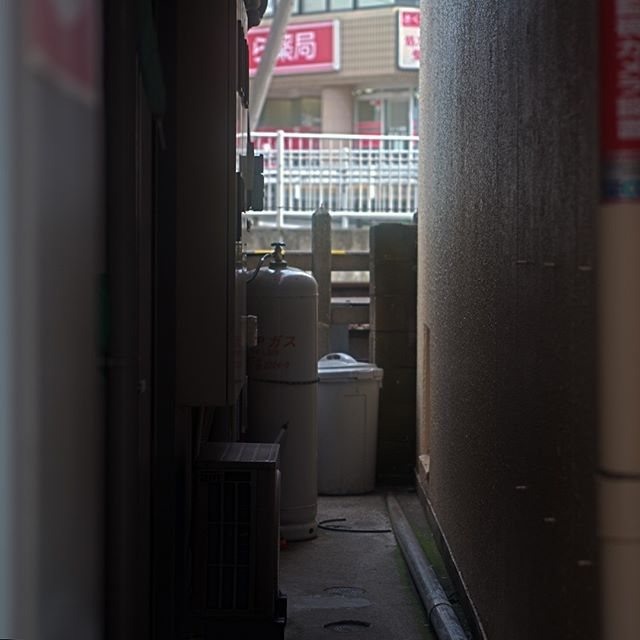building: (1, 1, 269, 640), (422, 1, 640, 640)
trash can: (306, 349, 389, 500)
